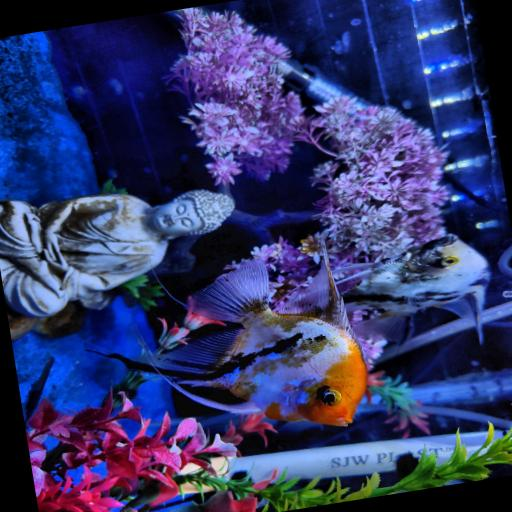Fish: (108, 255, 366, 426), (336, 235, 489, 343)
